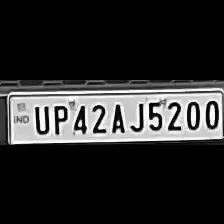0: (182, 98, 202, 130), (202, 97, 222, 129)
2: (87, 100, 107, 134), (162, 97, 182, 130)
4: (68, 100, 88, 136)
5: (144, 96, 164, 132)
A: (106, 100, 126, 134)
J: (126, 99, 144, 134)
P: (48, 101, 68, 135)
U: (30, 101, 50, 135)
